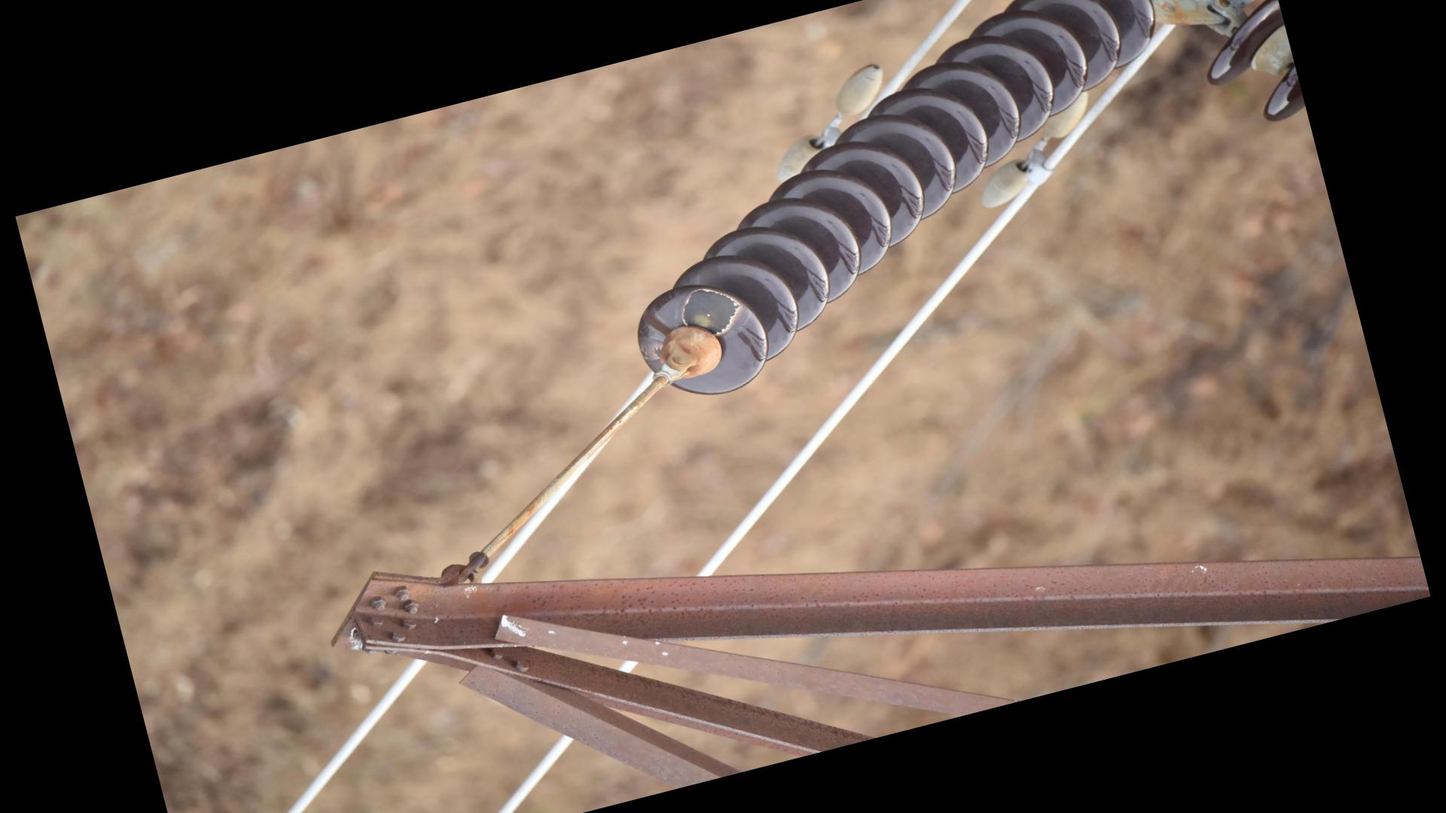damper: (749, 53, 909, 190), (953, 85, 1115, 217)
